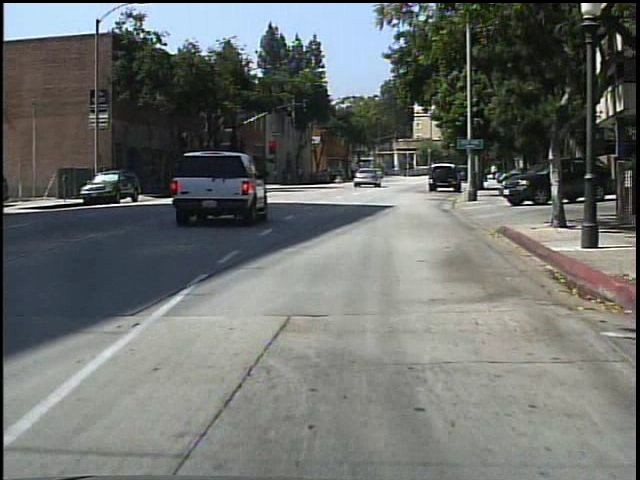person: (332, 166, 347, 187), (489, 162, 499, 182)
